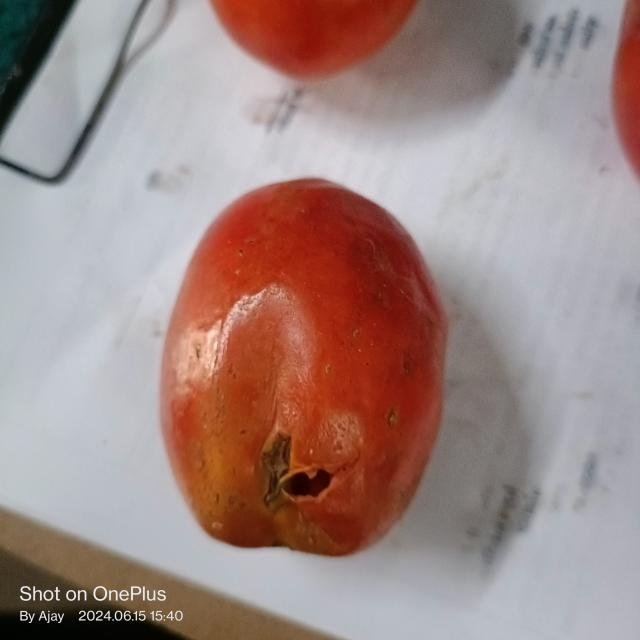Botrytis: (260, 430, 331, 504)
